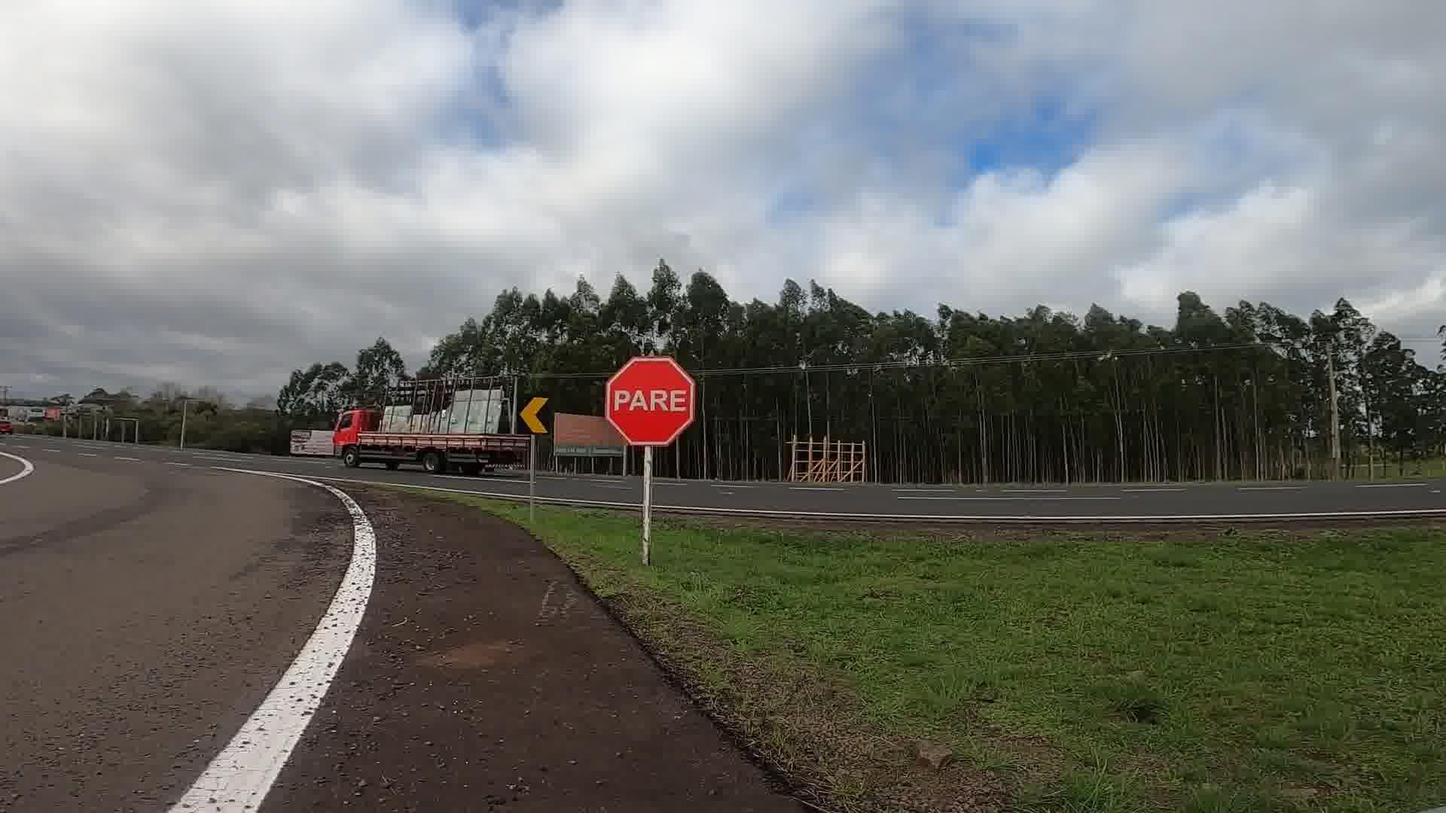R-1: (604, 360, 700, 443)
